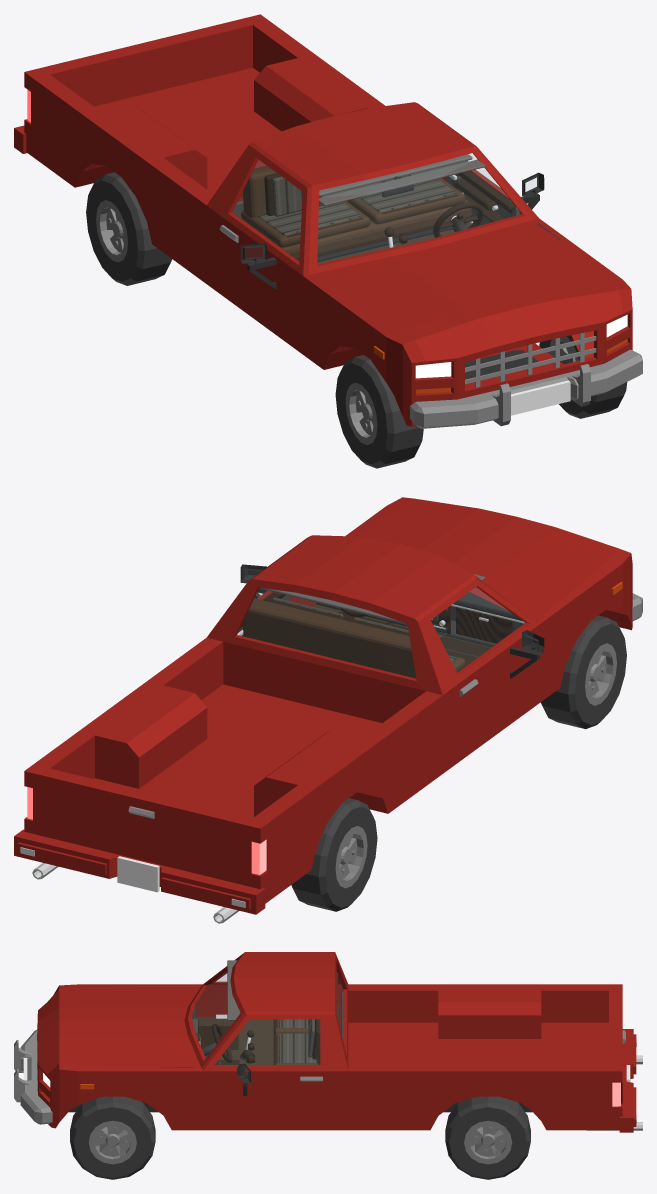
File: usa_pickup.glb
3 views of the same model, one above another, from view 1: azimuth 30°, elevation 25°; view 2: azimuth 150°, elevation 25°; view 3: azimuth 270°, elevation 25° (orthographic). The views are drawn at different scales.
Parts seen in each view (by area): view 1: Car_4, FR_1, RR_3, INT_SeatBase, INT_HeaderTrim, FL_0, INT_CushionFabric_L, INT_SeatPad_L, INT_SeatPad_R, INT_CushionFabric_R, INT_SeatBack, INT_BackFabric_R (+2 smaller); view 2: Car_4, INT_SeatBack, FR_1, RR_3, INT_Glovebox, INT_FloorMat_Pass, INT_Headliner, INT_DashTopPad; view 3: Car_4, RL_2, FL_0, INT_FloorCarpet, INT_CushionFabric_L, INT_HeaderTrim, INT_FloorMat_Pass.
Boxes of the visible parts, left/top/right/bottom form: Car_4: left=14, top=14, right=642, bottom=428; FR_1: left=335, top=355, right=423, bottom=468; RR_3: left=86, top=172, right=172, bottom=285; INT_SeatBase: left=281, top=199, right=472, bottom=260; INT_HeaderTrim: left=319, top=159, right=485, bottom=206; FL_0: left=539, top=335, right=627, bottom=418; INT_CushionFabric_L: left=360, top=179, right=456, bottom=212; INT_SeatPad_L: left=347, top=178, right=465, bottom=224; INT_SeatPad_R: left=241, top=201, right=370, bottom=247; INT_CushionFabric_R: left=259, top=202, right=361, bottom=235; INT_SeatBack: left=242, top=165, right=346, bottom=217; INT_BackFabric_R: left=272, top=176, right=322, bottom=216; Car_4: left=14, top=497, right=642, bottom=923; INT_SeatBack: left=242, top=598, right=416, bottom=678; FR_1: left=541, top=615, right=626, bottom=729; RR_3: left=291, top=798, right=377, bottom=911; INT_Glovebox: left=456, top=607, right=513, bottom=643; INT_FloorMat_Pass: left=440, top=636, right=490, bottom=666; INT_Headliner: left=260, top=588, right=407, bottom=624; INT_DashTopPad: left=453, top=591, right=523, bottom=621; Car_4: left=14, top=952, right=642, bottom=1132; RL_2: left=445, top=1096, right=530, bottom=1179; FL_0: left=70, top=1096, right=155, bottom=1179; INT_FloorCarpet: left=196, top=1017, right=273, bottom=1064; INT_CushionFabric_L: left=279, top=1033, right=317, bottom=1062; INT_HeaderTrim: left=227, top=960, right=239, bottom=1020; INT_FloorMat_Pass: left=199, top=1026, right=238, bottom=1049.
Bounding box in the file's own units: 2.31 × 1.56 × 5.56.
26 materials, 2 textured.
